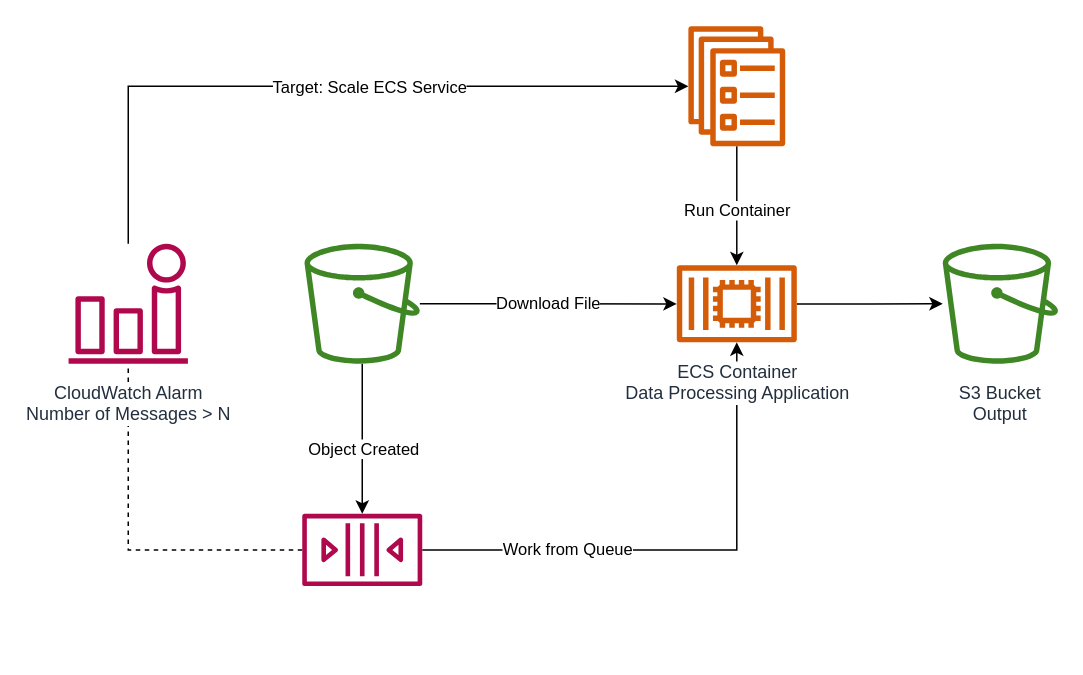
The diagram is 1083 pixels wide and 675 high, and some of its shapes have lost their labels. The centre of each missing label's shape, as x and y in pixels:
S3 Bucket Input: the point at 361,303
SQS Queue New File Notifications: the point at 362,549
